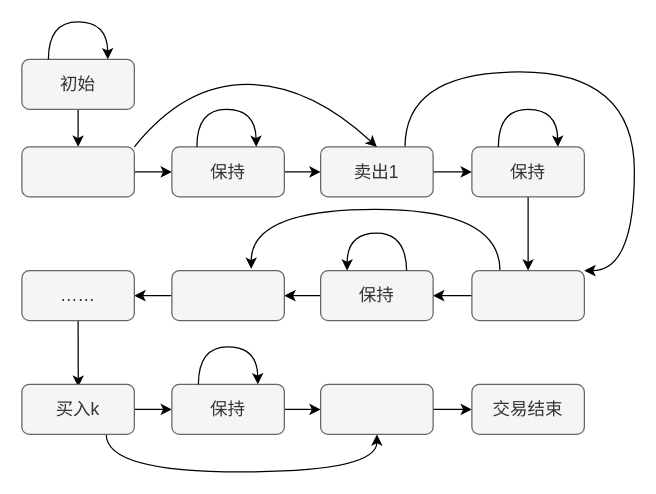
The diagram is 656 pixels wide and 494 high, and some of its shapes have lost their labels. Each missing label, with the box of its shape:
买入1: (21, 146, 134, 197)
买入2: (471, 269, 584, 321)
卖出2: (171, 269, 284, 321)
卖出k: (319, 383, 433, 434)
